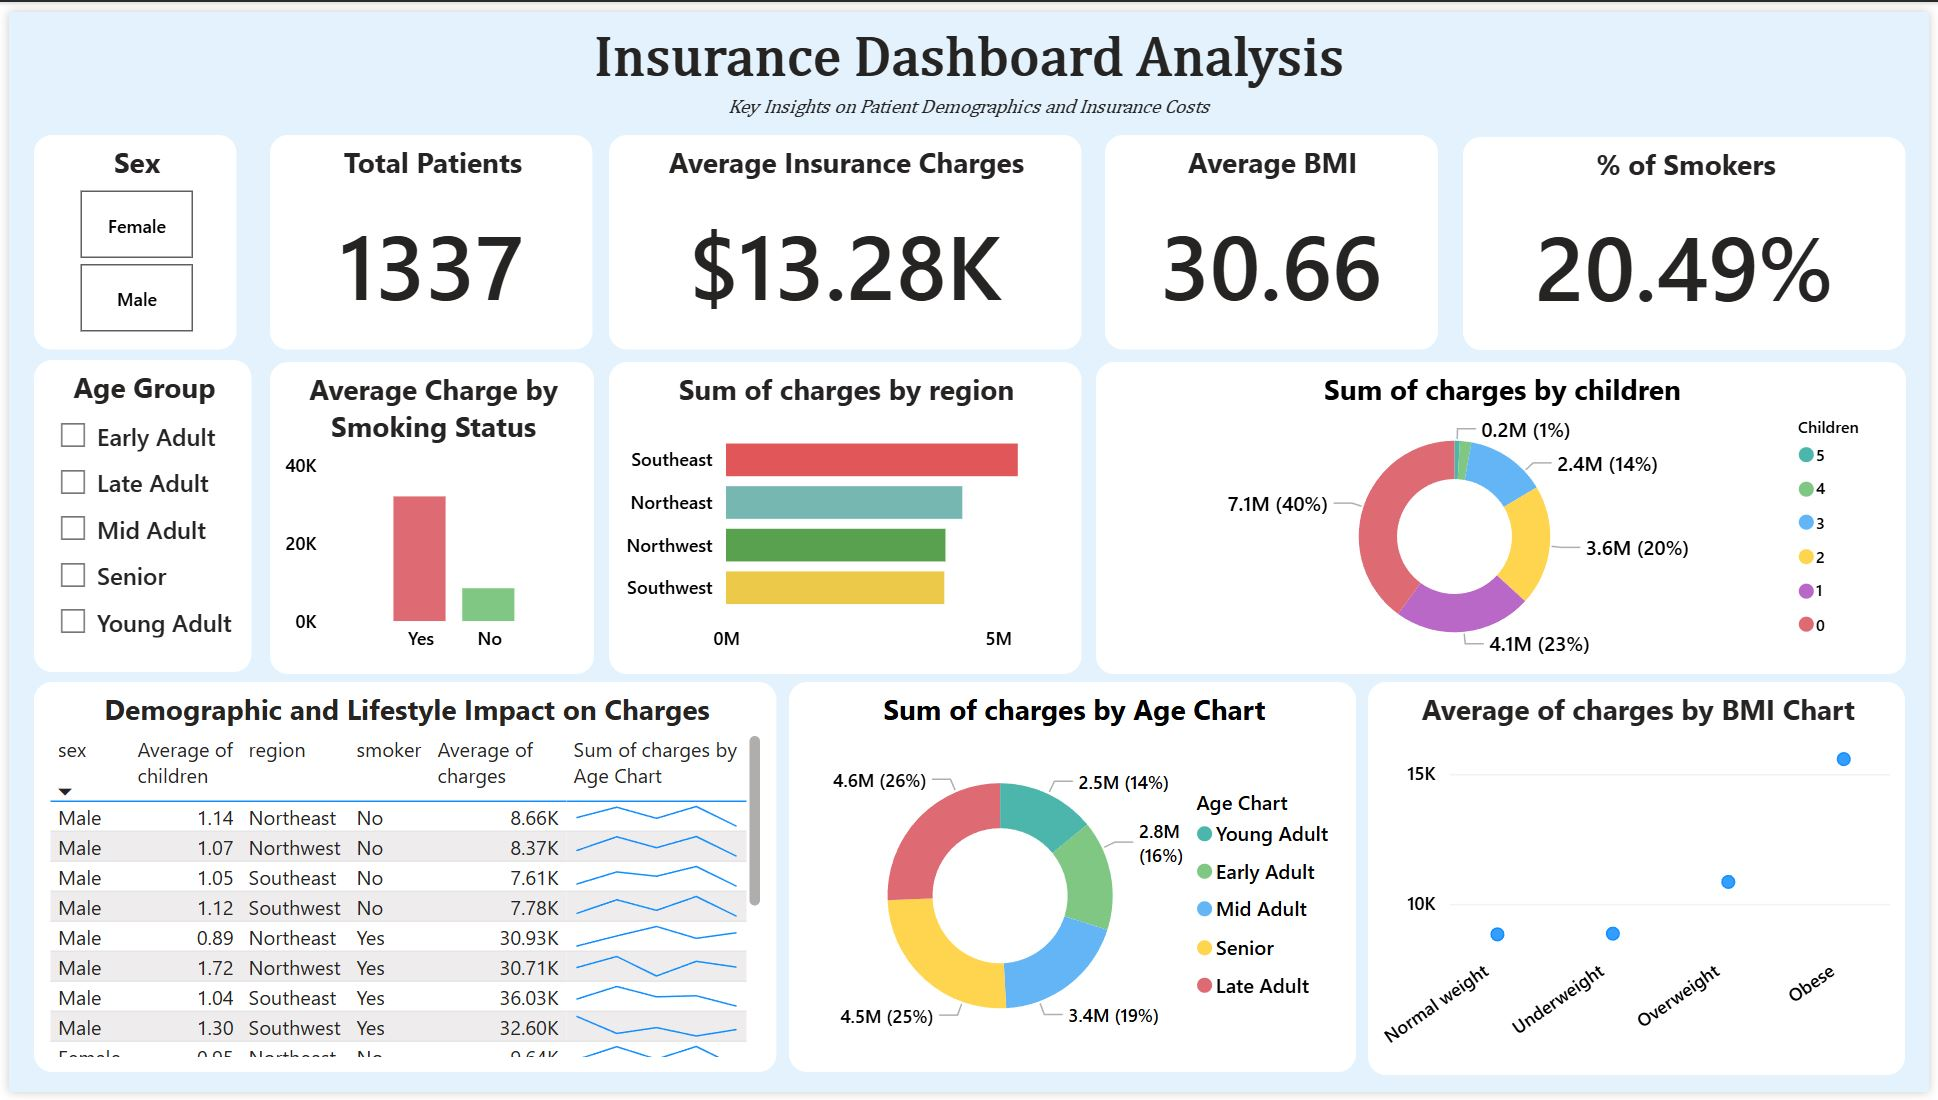

The page's visual inventory and layout, read from the dashboard file:
{"tool":"powerbi","page":{"name":"Page 1","canvas":[1280,720],"ordinal":0},"visuals":[{"type":"card","title":"Total Patients","fields":{"Values":["CountNonNull(data_for_dashboard.sex)"]},"box":[173.8,82.3,215.4,143.1],"z":0},{"type":"card","title":"Average Insurance Charges","fields":{"Values":["Avg(data_for_dashboard.charges)"]},"box":[400,82.3,314.6,143.1],"z":1000},{"type":"card","title":"Average BMI","fields":{"Values":["Avg(data_for_dashboard.bmi)"]},"box":[730.8,82.3,221.5,143.1],"z":2000},{"type":"card","title":"% of Smokers","fields":{"Values":["data_for_dashboard.% of Smokers"]},"box":[969.2,83.1,295.4,142.3],"z":3000},{"type":"textbox","box":[342,5.3,595.3,71.3],"z":4000},{"type":"slicer","title":"Sex","fields":{"Values":["data_for_dashboard.sex"]},"box":[16.9,82.3,135.4,143.1],"z":5000},{"type":"slicer","title":"Age Group","fields":{"Values":["data_for_dashboard.Age Chart"]},"box":[16.9,232.3,145.4,208.5],"z":6000},{"type":"columnChart","title":"Average Charge by Smoking Status","fields":{"Y":["Avg(data_for_dashboard.charges)"],"Category":["data_for_dashboard.smoker"]},"box":[173.8,233.1,216.2,207.7],"z":7000},{"type":"clusteredBarChart","fields":{"Category":["data_for_dashboard.region"],"Y":["Sum(data_for_dashboard.charges)"]},"box":[400,233.1,314.6,207.7],"z":8000},{"type":"donutChart","fields":{"Category":["data_for_dashboard.children"],"Y":["Sum(data_for_dashboard.charges)"]},"box":[724.6,233.1,540,207.7],"z":9000},{"type":"tableEx","title":"Demographic and Lifestyle Impact on Charges","fields":{"Values":["data_for_dashboard.sex","Avg(data_for_dashboard.children)","data_for_dashboard.region","data_for_dashboard.smoker","Avg(data_for_dashboard.charges)","SparklineData(Sum(data_for_dashboard.charges)_[data_for_dashboard.Age Chart])"]},"box":[16.9,446.9,495.4,260],"z":10000},{"type":"donutChart","fields":{"Y":["Sum(data_for_dashboard.charges)"],"Category":["data_for_dashboard.Age Chart"]},"box":[520,446.9,378.5,260],"z":11000},{"type":"scatterChart","fields":{"Y":["Avg(data_for_dashboard.charges)"],"X":["data_for_dashboard.BMI Chart"]},"box":[906.2,446.9,358.5,261.5],"z":12000}]}

Visuals, with their boxes in screenshot pixels (x1, y1, x2, y2), scaled from the page's 1280x720 canvas onto the 1938x1100 screenshot:
"Total Patients" card: left=263, top=126, right=589, bottom=344
"Average Insurance Charges" card: left=606, top=126, right=1082, bottom=344
"Average BMI" card: left=1106, top=126, right=1442, bottom=344
"% of Smokers" card: left=1467, top=127, right=1915, bottom=344
textbox: left=518, top=8, right=1419, bottom=117
"Sex" slicer: left=26, top=126, right=231, bottom=344
"Age Group" slicer: left=26, top=355, right=246, bottom=673
"Average Charge by Smoking Status" columnChart: left=263, top=356, right=590, bottom=673
clusteredBarChart - data_for_dashboard.region x Sum(data_for_dashboard.charges): left=606, top=356, right=1082, bottom=673
donutChart - data_for_dashboard.children x Sum(data_for_dashboard.charges): left=1097, top=356, right=1915, bottom=673
"Demographic and Lifestyle Impact on Charges" tableEx: left=26, top=683, right=776, bottom=1080
donutChart - Sum(data_for_dashboard.charges) x data_for_dashboard.Age Chart: left=787, top=683, right=1360, bottom=1080
scatterChart - Avg(data_for_dashboard.charges) x data_for_dashboard.BMI Chart: left=1372, top=683, right=1915, bottom=1082
